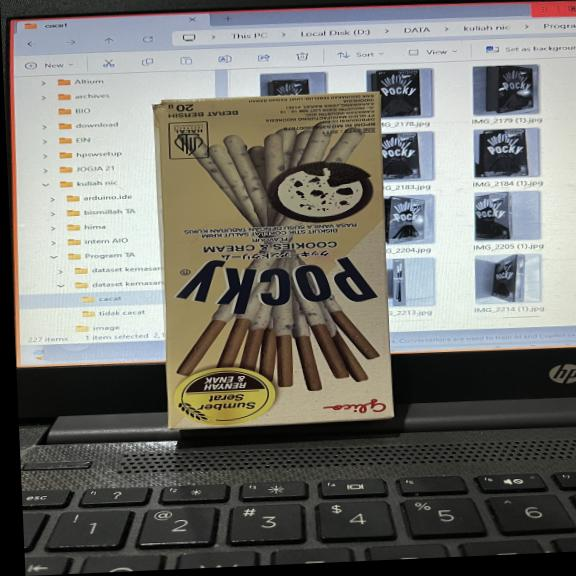Kertas: (147, 91, 398, 429)
